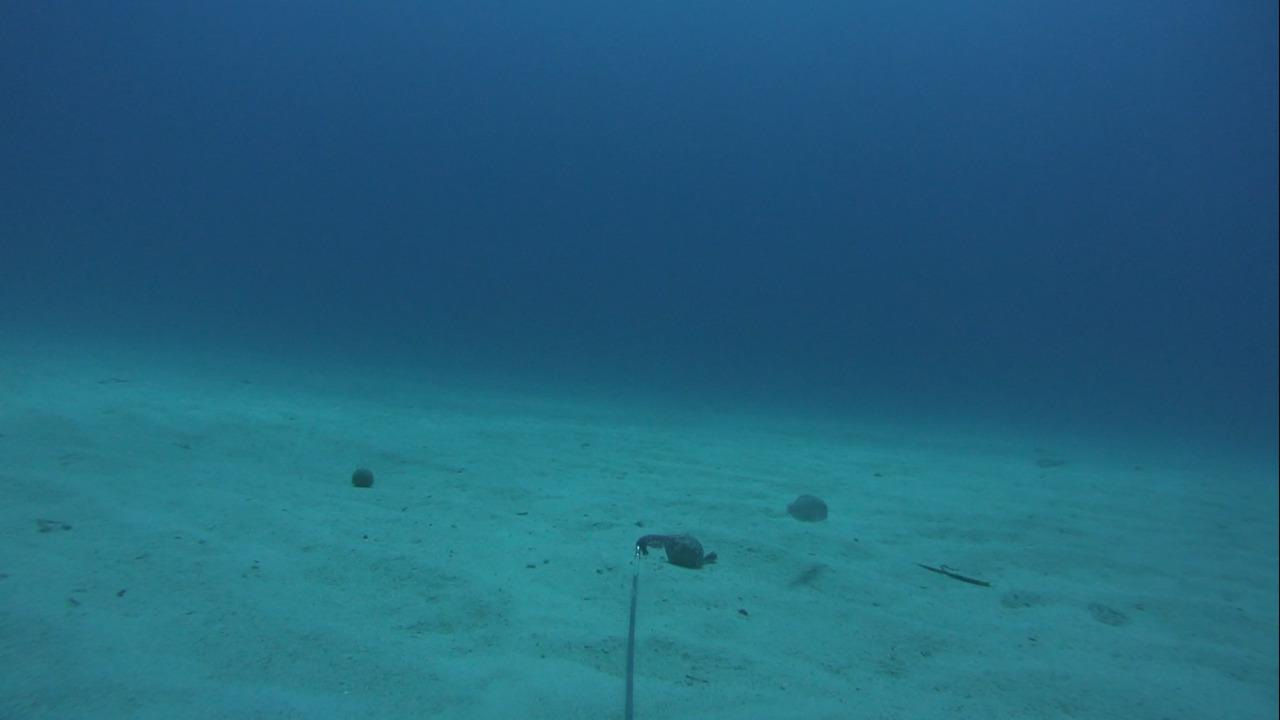raor: (777, 489, 832, 525)
